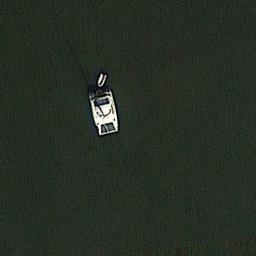boat: (88, 87, 119, 137), (96, 68, 107, 86)
